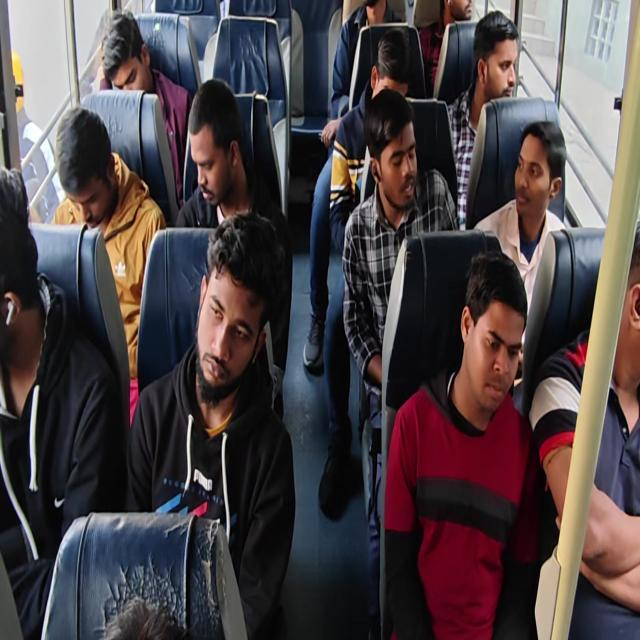person: (1, 1, 638, 638), (126, 210, 296, 638), (341, 87, 459, 637), (382, 249, 542, 638), (0, 164, 125, 637), (529, 220, 639, 635), (174, 78, 293, 420), (49, 105, 166, 427), (303, 25, 411, 372), (473, 120, 568, 343), (328, 28, 412, 252), (100, 9, 194, 206), (446, 11, 520, 228), (9, 49, 62, 222), (330, 0, 404, 119), (418, 0, 474, 97), (102, 596, 192, 639)
